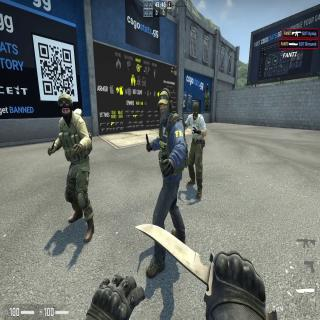CT-Body: (58, 94, 91, 245), (159, 90, 187, 237)
CT-Head: (58, 94, 72, 120), (158, 90, 170, 120)
T-Body: (188, 103, 205, 200)
T-Head: (192, 104, 198, 118)
